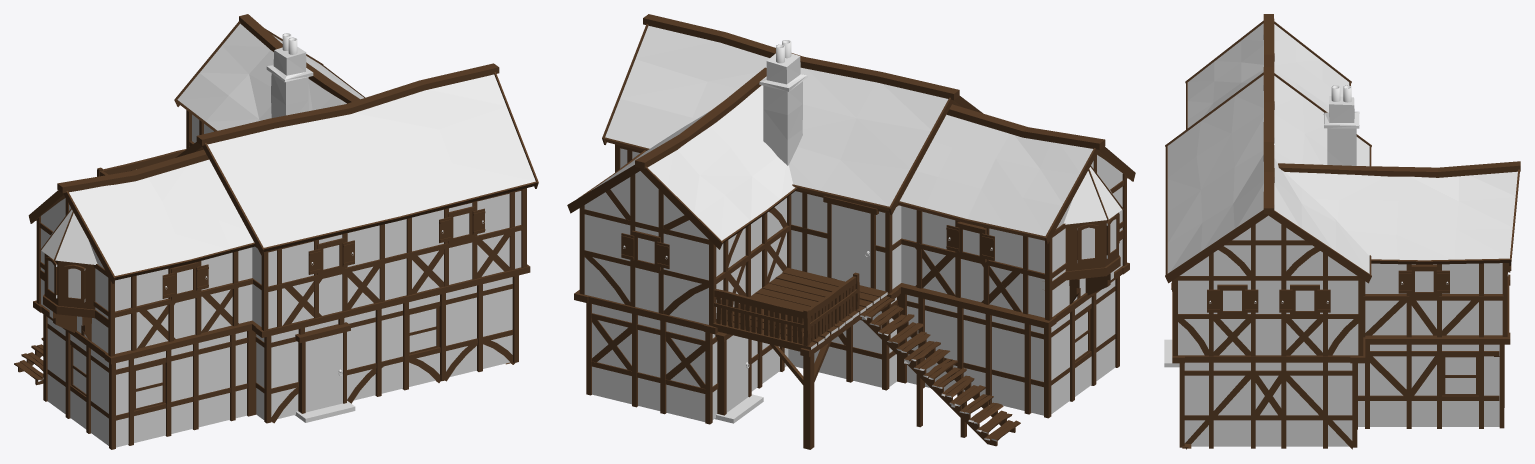
Rendered from grande_maison_B.dae.
3 renders of one model, left to right at view 1: azimuth 30°, elevation 25°; view 2: azimuth 150°, elevation 25°; view 3: azimuth 270°, elevation 25°, orthographic. The views are drawn at different scales.
Visible parts, largest first — view 1: Roof, WoodenBeams, HouseLevel1, HouseLevel2, RoofFrame, WindowFrames, Door1, Chimney, Door1Frame, Windows1Level1, Windows2Level1, WoodenStair (+2 smaller); view 2: Roof, WoodenBeams, HouseLevel2, HouseLevel1, RoofFrame, BackBalcony, WoodenStair, Chimney, WindowFrames, Door3, Door2, Door3Frame (+2 smaller); view 3: Roof, WoodenBeams, HouseLevel2, HouseLevel1, RoofFrame, WindowFrames, Chimney, Windows4Level1, Windows10Level2, Windows11Level2, Windows9Level2.
Part boxes in pixels (left/top/right/bottom): Roof: left=41, top=23, right=535, bottom=275; WoodenBeams: left=33, top=110, right=530, bottom=449; HouseLevel1: left=47, top=277, right=512, bottom=447; HouseLevel2: left=41, top=114, right=521, bottom=353; RoofFrame: left=28, top=14, right=538, bottom=283; WindowFrames: left=45, top=206, right=485, bottom=410; Door1: left=305, top=333, right=342, bottom=412; Chimney: left=266, top=47, right=313, bottom=117; Door1Frame: left=295, top=322, right=350, bottom=413; Windows1Level1: left=409, top=308, right=436, bottom=352; Windows2Level1: left=136, top=364, right=162, bottom=408; WoodenStair: left=14, top=337, right=43, bottom=385; Roof: left=591, top=25, right=1122, bottom=240; WoodenBeams: left=574, top=144, right=1129, bottom=424; HouseLevel2: left=584, top=148, right=1122, bottom=324; HouseLevel1: left=592, top=280, right=1115, bottom=421; RoofFrame: left=567, top=14, right=1135, bottom=249; BackBalcony: left=712, top=267, right=887, bottom=449; WoodenStair: left=860, top=296, right=1020, bottom=446; Chimney: left=759, top=53, right=807, bottom=165; WindowFrames: left=621, top=212, right=1119, bottom=361; Door3: left=831, top=204, right=870, bottom=287; Door2: left=726, top=335, right=748, bottom=412; Door3Frame: left=823, top=196, right=878, bottom=288; Roof: left=1167, top=23, right=1517, bottom=273; WoodenBeams: left=1172, top=224, right=1510, bottom=449; HouseLevel2: left=1178, top=215, right=1502, bottom=355; HouseLevel1: left=1184, top=344, right=1499, bottom=446; RoofFrame: left=1165, top=14, right=1520, bottom=283; WindowFrames: left=1171, top=263, right=1511, bottom=395; Chimney: left=1323, top=96, right=1359, bottom=165; Windows4Level1: left=1445, top=357, right=1475, bottom=393; Windows10Level2: left=1295, top=290, right=1314, bottom=310; Windows11Level2: left=1223, top=290, right=1241, bottom=310; Windows9Level2: left=1415, top=271, right=1433, bottom=291.
Size of the model in its own units: 13.53 by 9.53 by 8.87.
